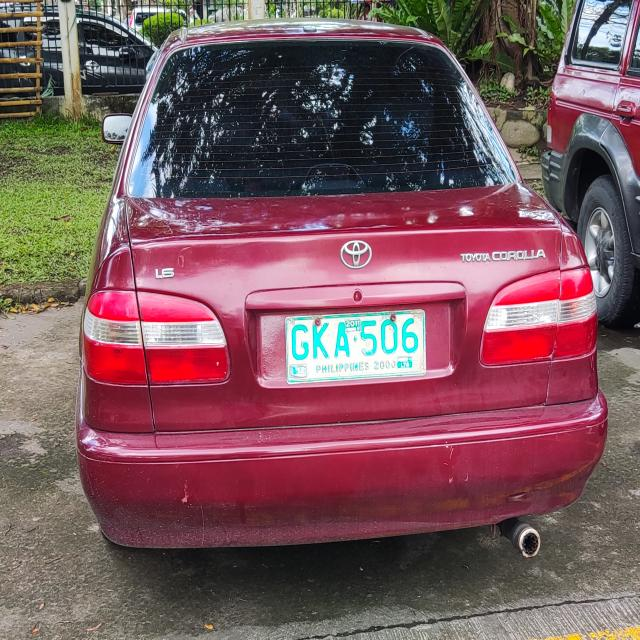plate: (284, 307, 428, 386)
